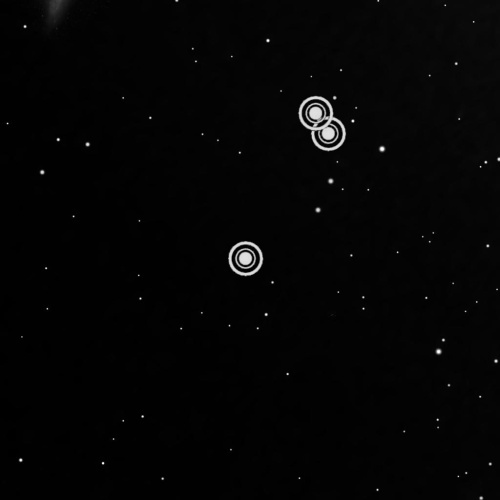canis_minor: (223, 90, 350, 286)
